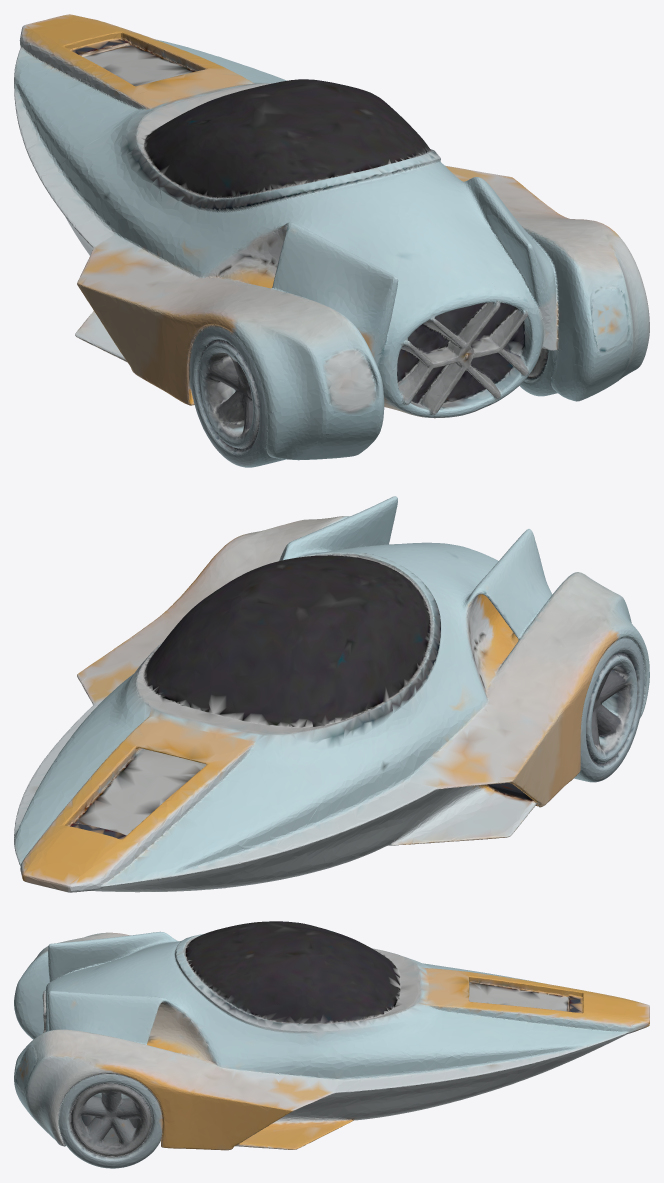
Rendered from aero_xl.glb.
3 renders of one model, top to bottom at view 1: azimuth 30°, elevation 25°; view 2: azimuth 150°, elevation 25°; view 3: azimuth 270°, elevation 25°, orthographic. The views are drawn at different scales.
Parts seen in each view (by area): view 1: geometry_0; view 2: geometry_0; view 3: geometry_0.
Part boxes in pixels (x1,y1,x2,y2): geometry_0: [14, 14, 649, 467]; geometry_0: [14, 496, 649, 892]; geometry_0: [14, 921, 649, 1168].
Bounding box in the file's own units: 5.13 × 2.56 × 9.
